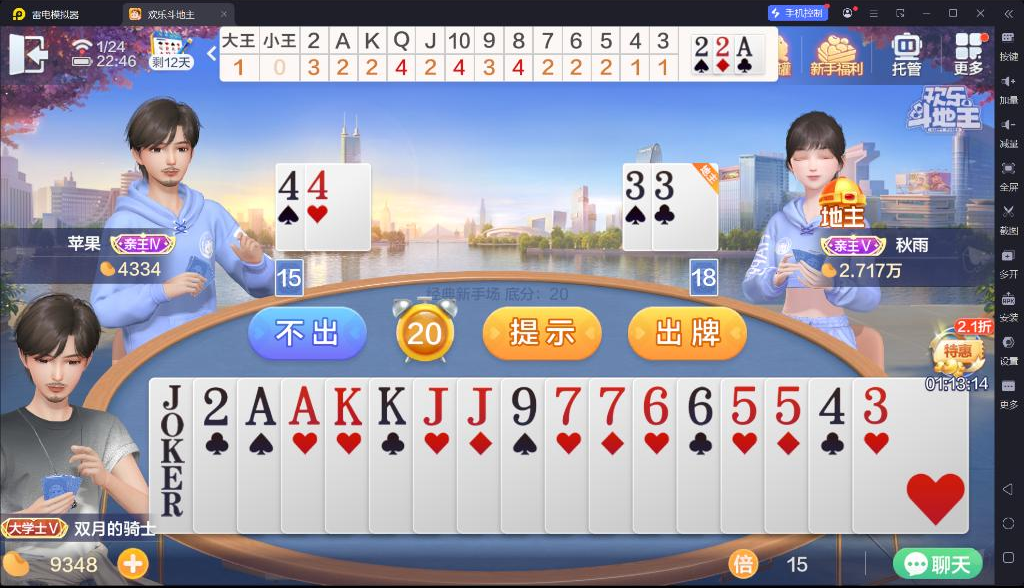A: (243, 383, 277, 429), (285, 384, 320, 427), (736, 35, 753, 57)
J: (462, 383, 494, 428), (418, 384, 450, 427)
K: (373, 383, 409, 427), (330, 383, 364, 428)
five: (726, 383, 760, 426), (771, 384, 803, 427)
four: (815, 383, 849, 426), (277, 169, 301, 204), (307, 168, 330, 202)
joker: (159, 382, 186, 468)
nine: (507, 383, 539, 429)
seven: (595, 381, 627, 427), (551, 381, 583, 427)
six: (639, 382, 670, 426), (685, 383, 715, 427)
three: (860, 383, 890, 426), (654, 168, 675, 202), (623, 169, 645, 201)
two: (201, 383, 232, 429), (694, 35, 710, 58), (715, 35, 731, 58)
